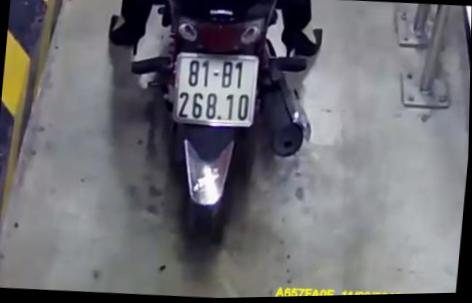LP: (171, 49, 261, 132)
